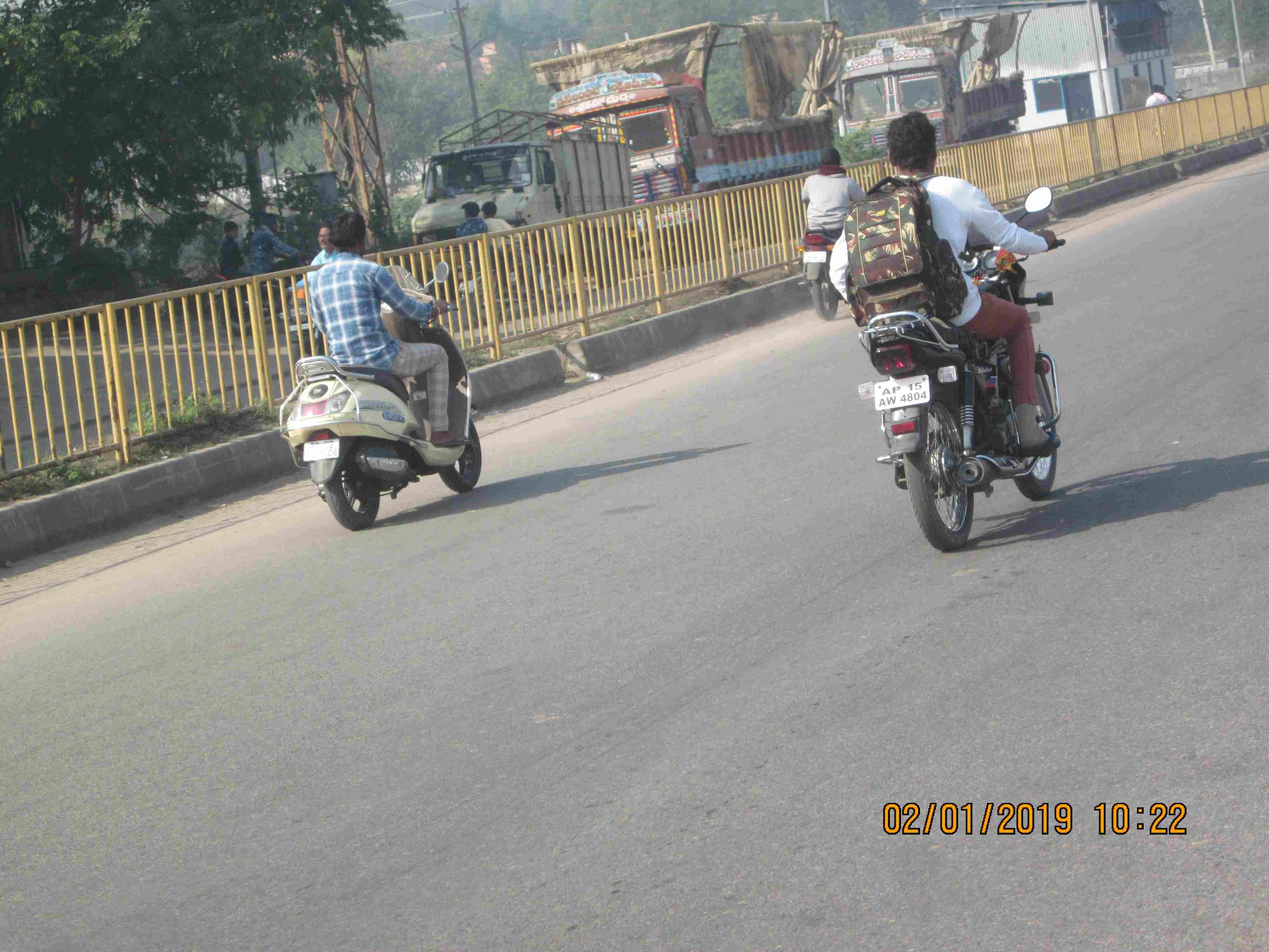plate: (868, 375, 936, 413), (299, 431, 345, 472)
